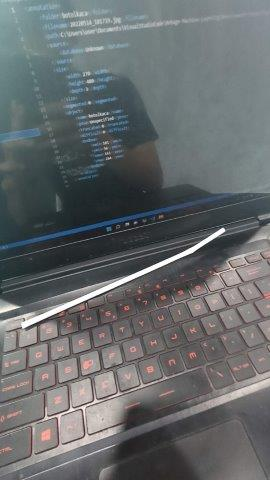sedotan: (22, 228, 224, 328)
